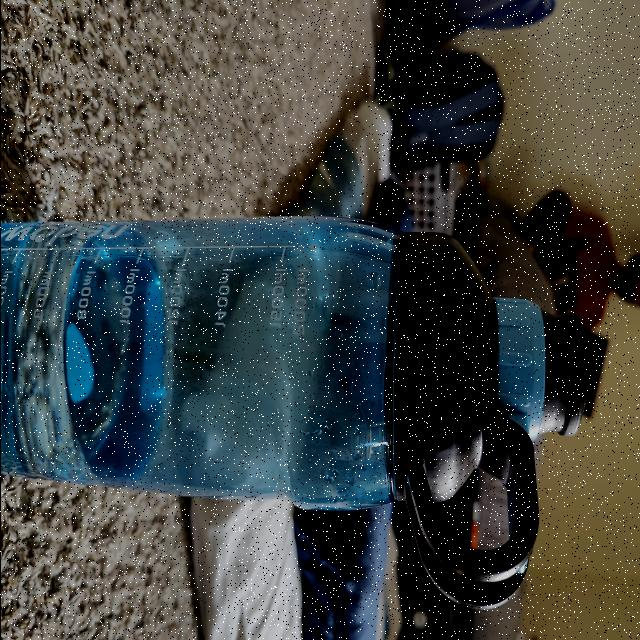bottle: (0, 223, 591, 601)
